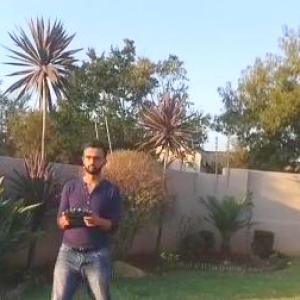follow: (43, 130, 126, 299)
